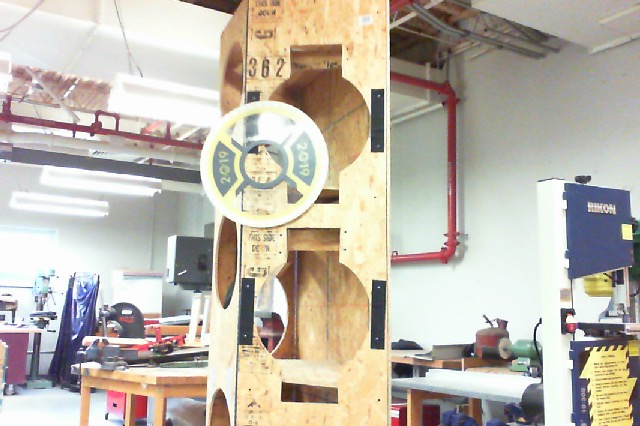Hatch: (199, 101, 329, 227)
